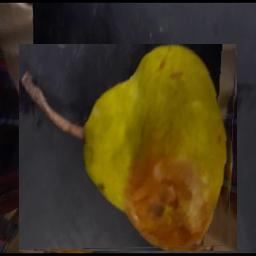Pear Rotten: (20, 45, 238, 252)
